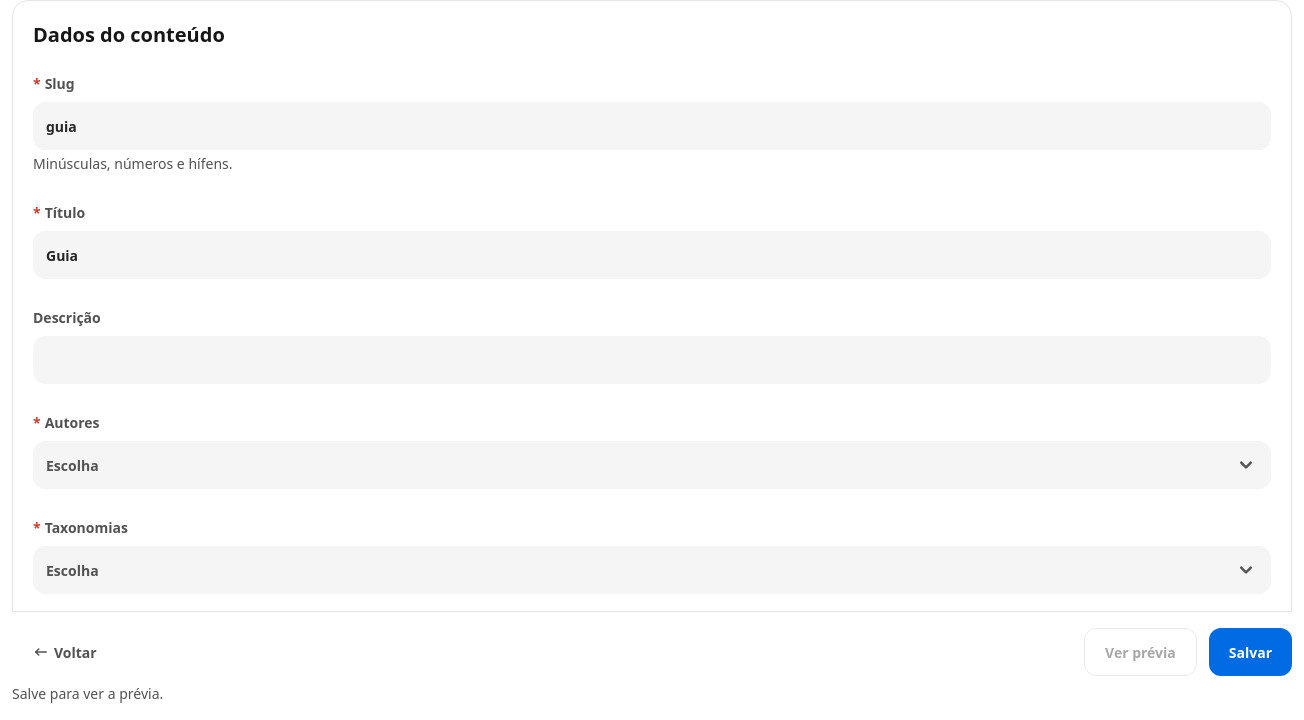
Test: barra de ações e continuar no editor (#109) › durante o salvamento, "Salvando…" e nenhum outro clique
Click the button "Salvar" at (1250,652), box [1209, 628, 1292, 676]
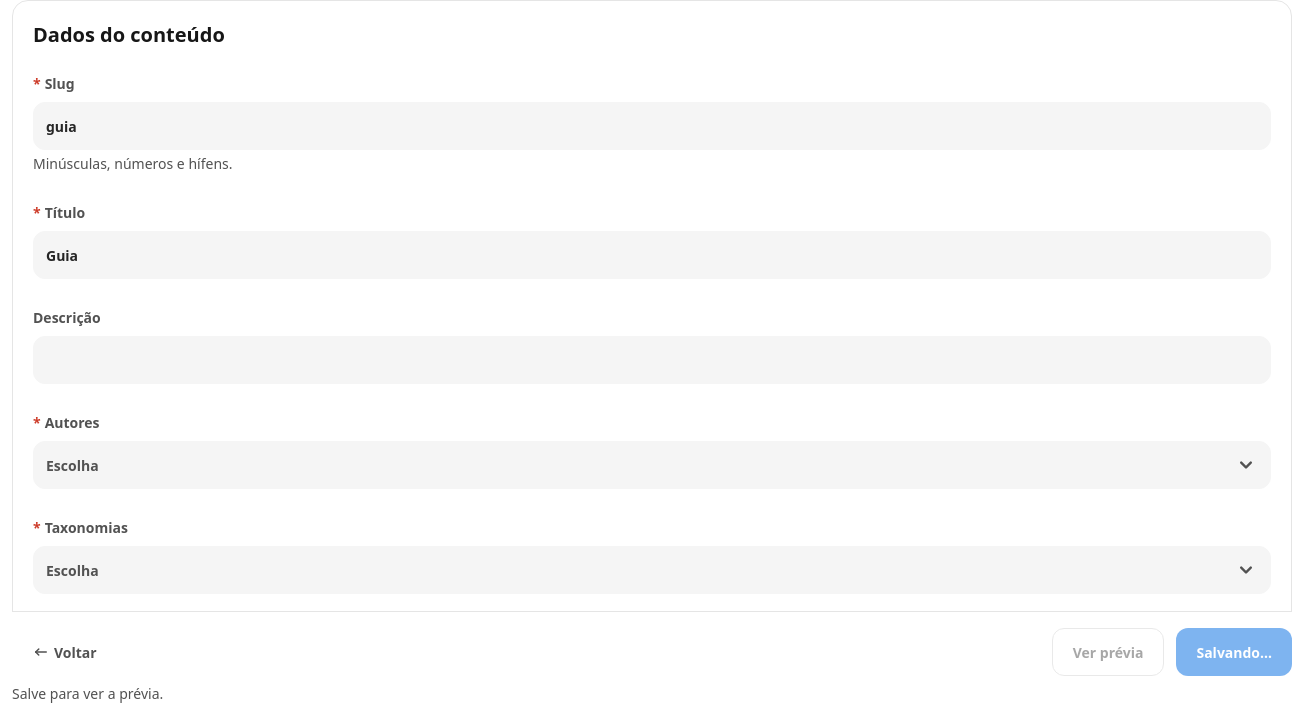
Expected: the button "Salvando…" is disabled
Click the button "Salvando…" at (1234,652), box [1176, 628, 1292, 676]
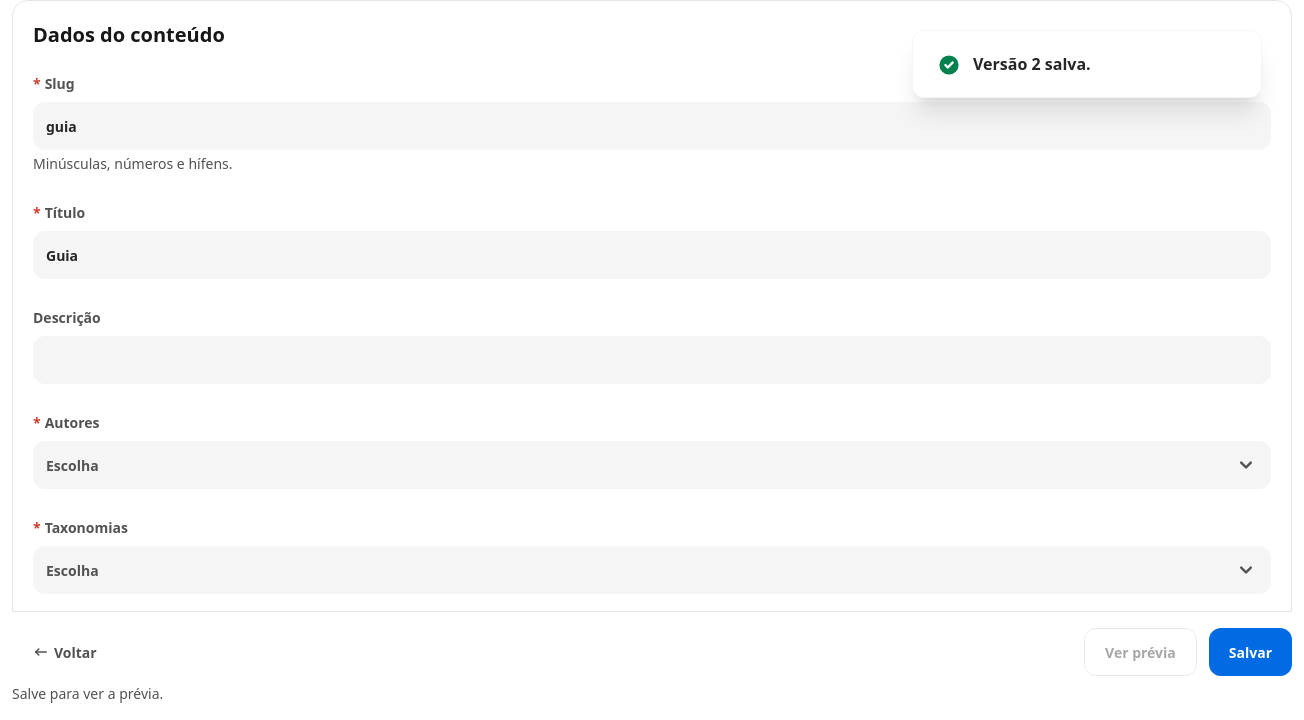
Expected: the button "Salvar" is shown, [1209, 628, 1292, 676]
